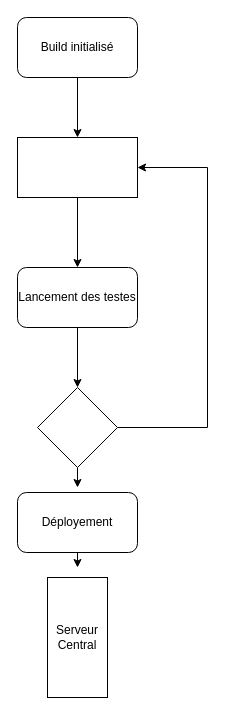
Image size: 233x715. Some labels were removed from this diagram. Each missing label, with the centre of its shape:
"Realisation d'une nouvelle release" goes at (77,167).
"smoke Test" goes at (77,427).
